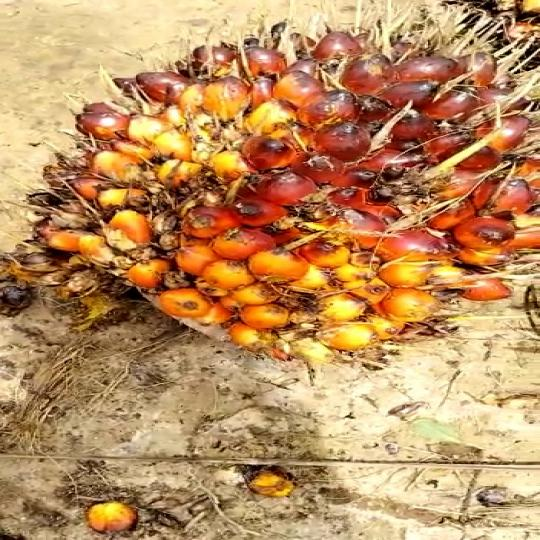masak: (19, 9, 540, 381)
